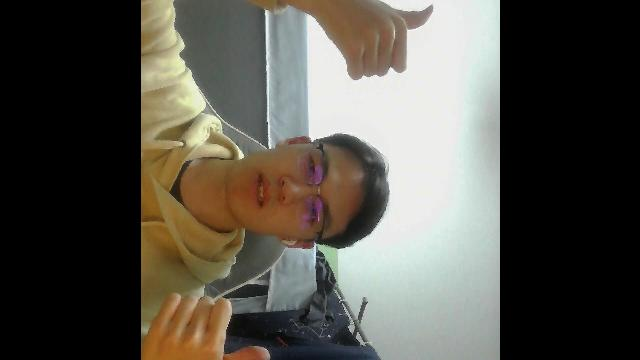good: (276, 0, 432, 79), (140, 292, 268, 360)
